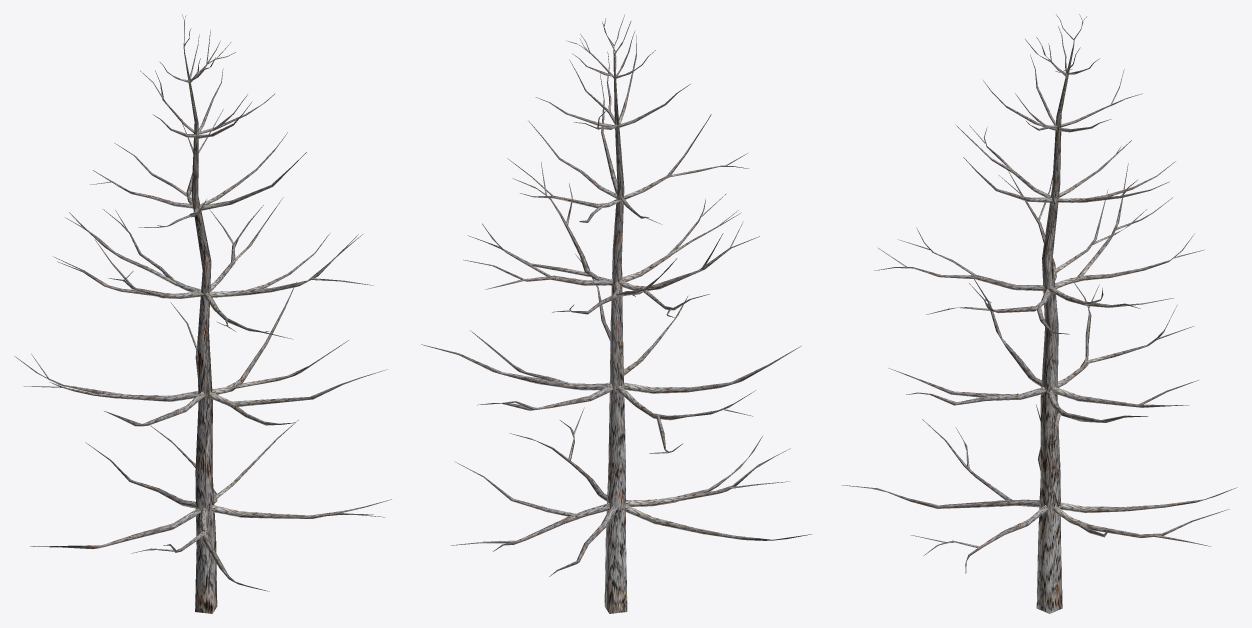
Rendered from pine.glb.
3 renders of one model, left to right at view 1: azimuth 30°, elevation 25°; view 2: azimuth 150°, elevation 25°; view 3: azimuth 270°, elevation 25°, orthographic. The views are drawn at different scales.
Parts seen in each view (by area): view 1: tree; view 2: tree; view 3: tree.
Boxes of the visible parts, left/top/right/bottom form: tree: left=14, top=14, right=391, bottom=613; tree: left=421, top=15, right=812, bottom=613; tree: left=841, top=14, right=1237, bottom=613.
Size of the model in its own units: 4.78 by 8.14 by 4.94.
Materials: 1 (1 with a texture image).
